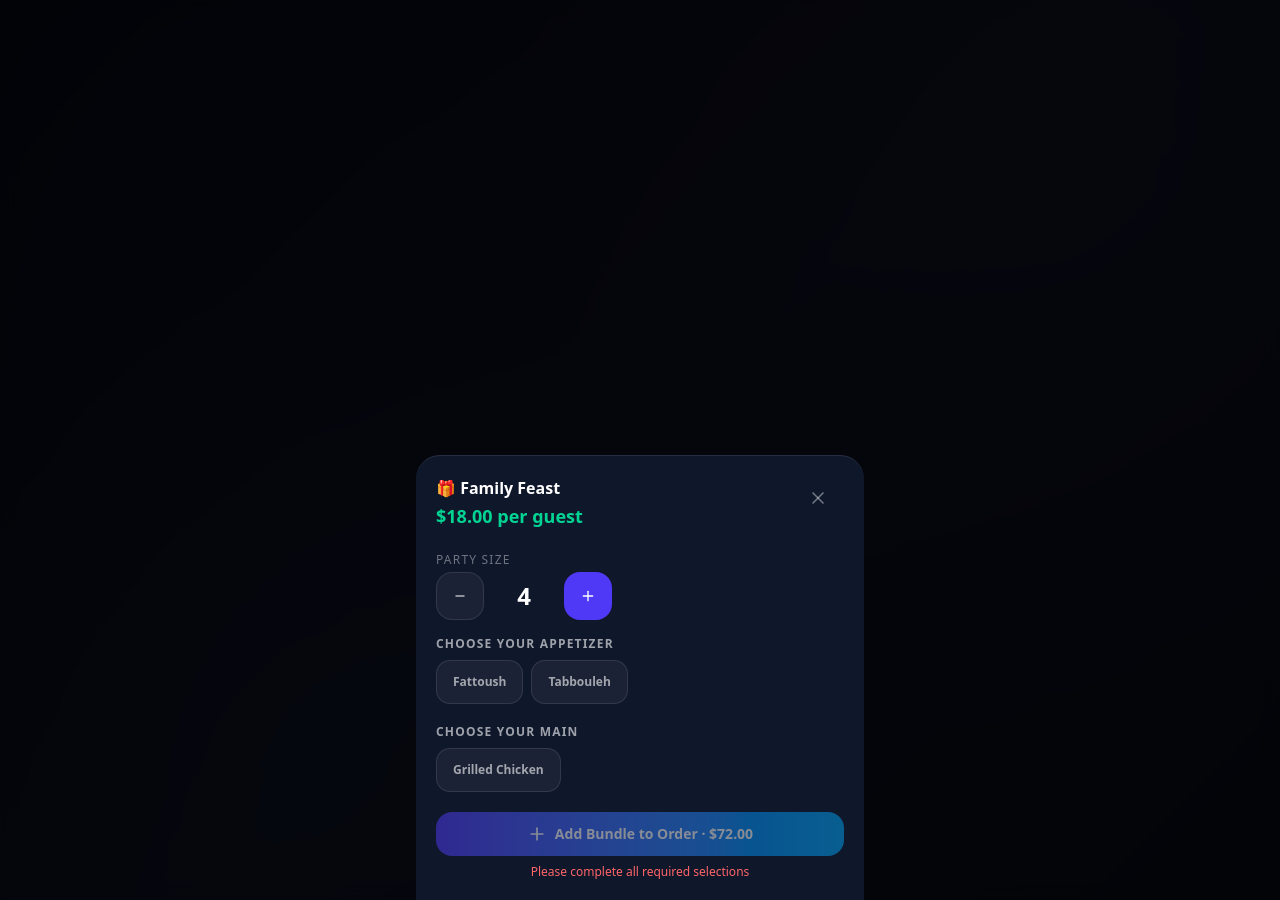
it: BundleOrderModal › Confirm button is disabled until every slot has a selection, enabling after the last one
Expected: the button "Add Bundle to Order · $72.00" is disabled, [436,812,844,856]
Click the button "Fattoush": x=480, y=682 [436,660,523,704]
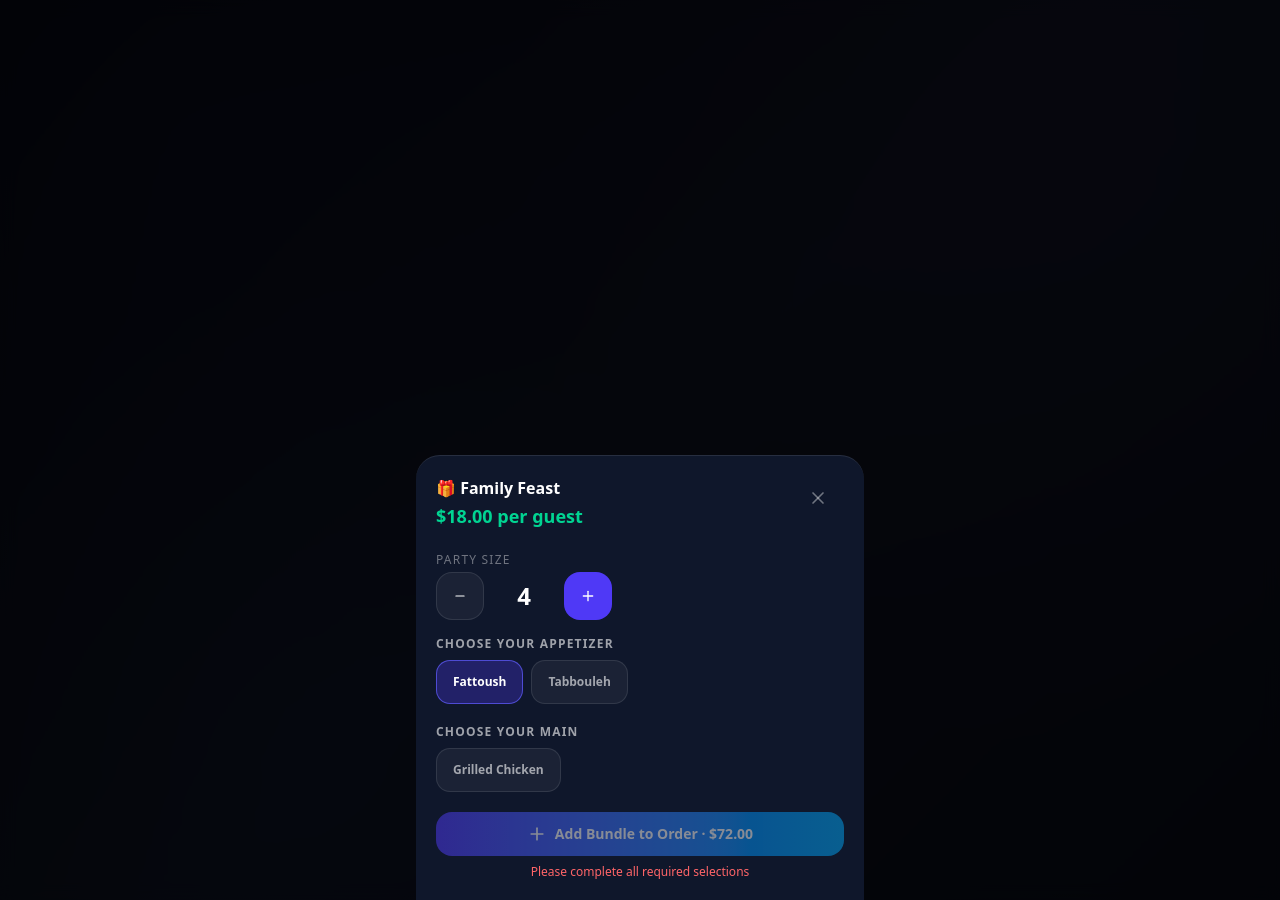
Expected: the button "Add Bundle to Order · $72.00" is disabled, [436,812,844,856]
Click the button "Grilled Chicken": x=498, y=770 [436,748,561,792]
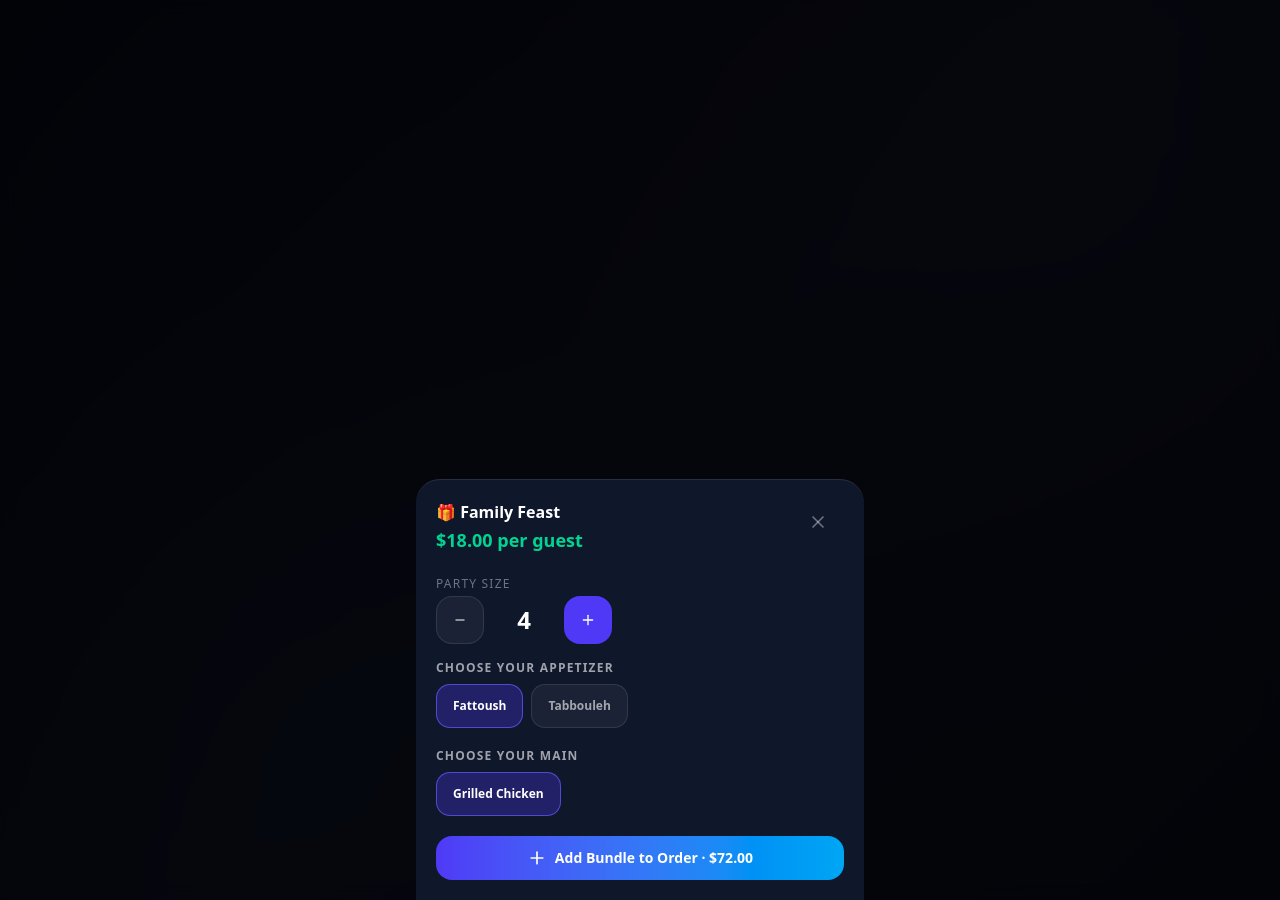
Now the button "Add Bundle to Order · $72.00" is enabled, box [436,836,844,880]
